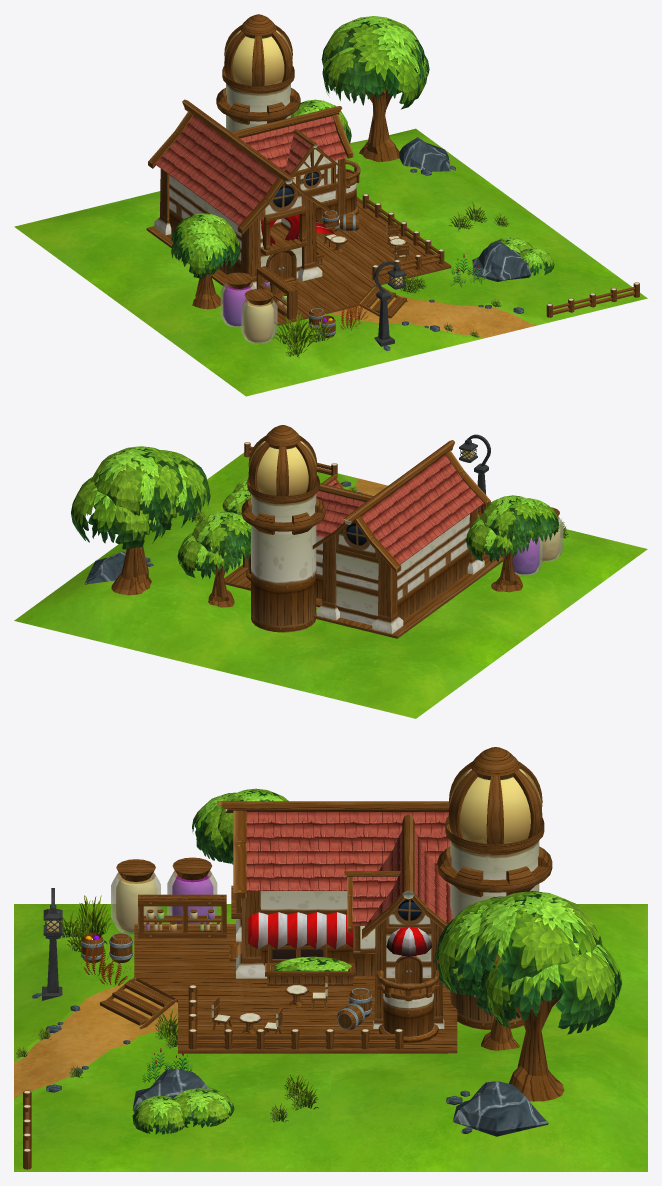
The model's file is stylized_fantasy_tavern.glb.
3 views of the same model, one above another, from view 1: azimuth 30°, elevation 25°; view 2: azimuth 150°, elevation 25°; view 3: azimuth 270°, elevation 25° (orthographic). The views are drawn at different scales.
Parts seen in each view (by area): view 1: Object_5, Object_6, Object_9, Object_7, Object_8; view 2: Object_5, Object_6, Object_7, Object_8, Object_9; view 3: Object_5, Object_6, Object_9, Object_7, Object_8.
Part boxes in pixels (x1,y1,x2,y2): Object_5: (14,14,647,396); Object_6: (146,66,639,337); Object_9: (275,137,537,357); Object_7: (220,30,292,343); Object_8: (223,36,286,342); Object_5: (14,425,647,718); Object_6: (111,442,557,638); Object_7: (249,441,563,575); Object_8: (256,447,560,574); Object_9: (84,434,568,584); Object_5: (14,747,647,1171); Object_6: (23,812,564,1169); Object_9: (14,888,548,1136); Object_7: (111,769,541,934); Object_8: (116,777,530,932).
Size of the model in its own units: 400 by 196 by 400.
6 materials, 5 textured.
